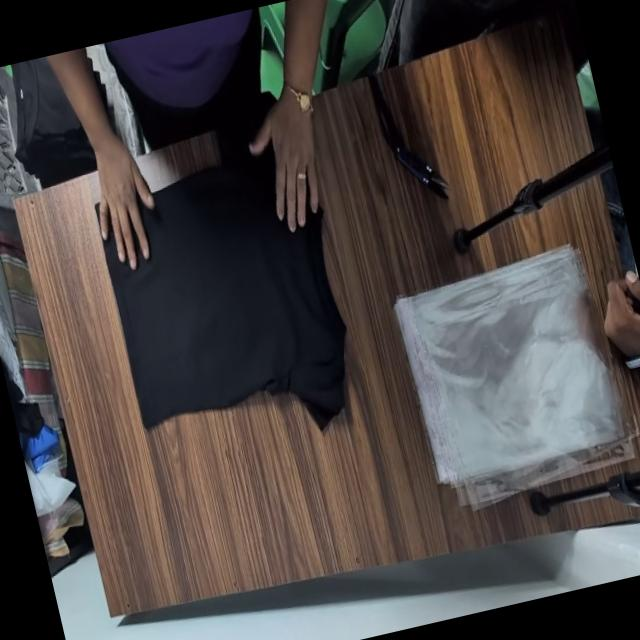new-garment: (106, 155, 345, 427)
